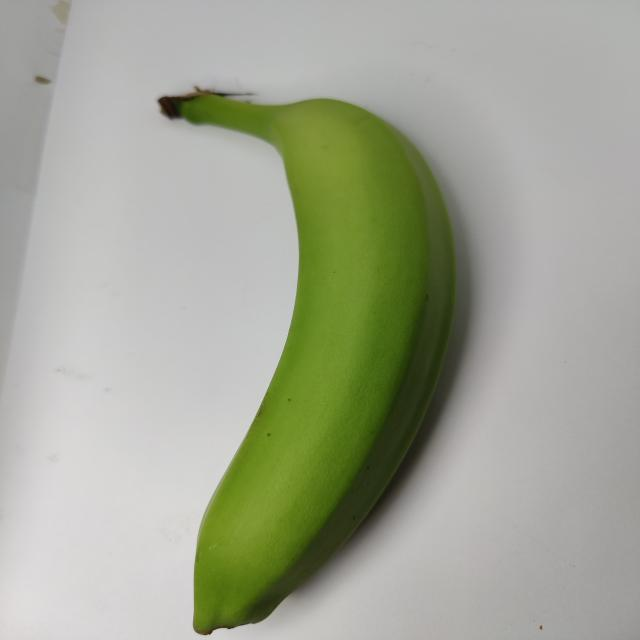raw: (83, 67, 506, 640)
